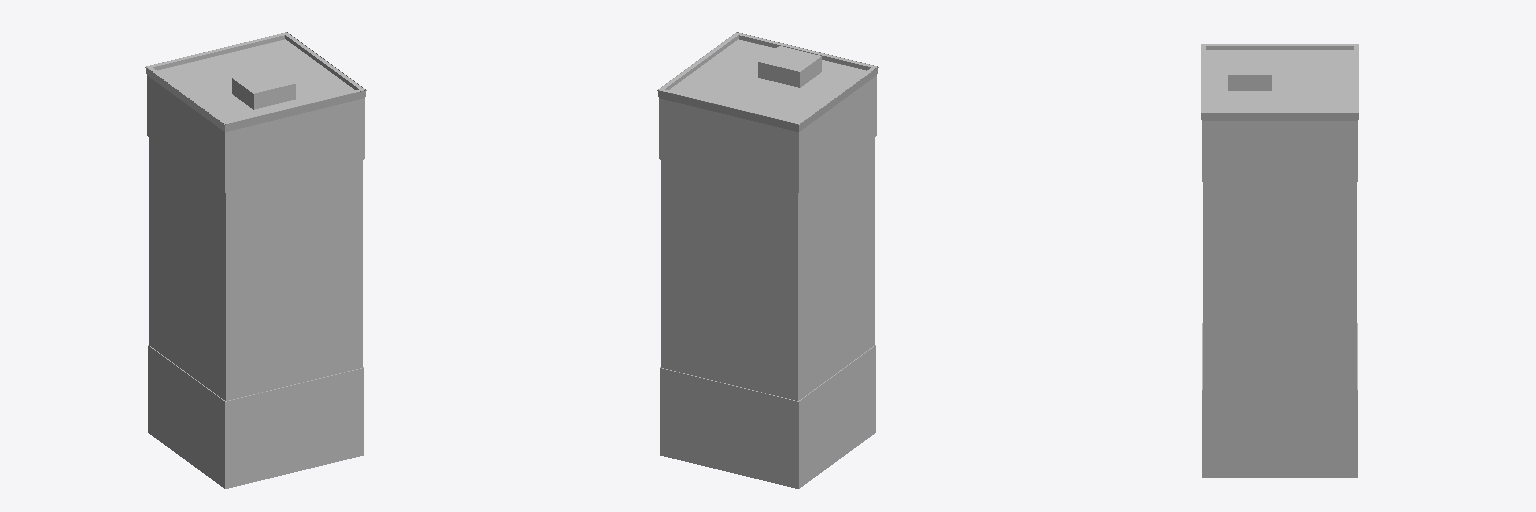
The model's file is building_18.obj.
The picture shows the model from 3 angles: view 1: azimuth 30°, elevation 25°; view 2: azimuth 150°, elevation 25°; view 3: azimuth 270°, elevation 25°; orthographic projection.
Parts seen in each view (by area): view 1: BakedBuilding_315; view 2: BakedBuilding_315; view 3: BakedBuilding_315.
Boxes of the visible parts, <box> form: BakedBuilding_315: <box>145,32,366,488</box>; BakedBuilding_315: <box>657,32,878,488</box>; BakedBuilding_315: <box>1201,44,1358,477</box>.
Bounding box in the file's own units: 57.95 × 147 × 56.05.